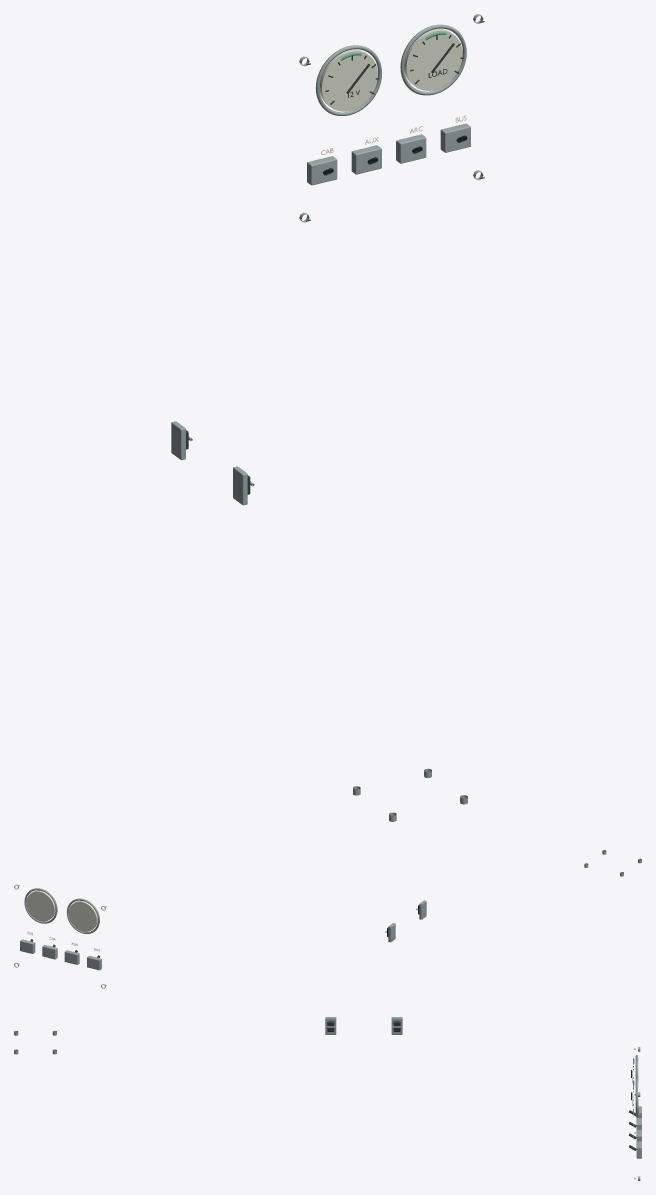
File: cabin-hardware.fbx
The picture shows the model from 3 angles, top to bottom: view 1: azimuth 30°, elevation 25°; view 2: azimuth 150°, elevation 25°; view 3: azimuth 270°, elevation 25°; orthographic projection. The views are drawn at different scales.
Visible parts, largest first — view 1: GEO-cabin_detail_hardware; view 2: GEO-cabin_detail_hardware; view 3: GEO-cabin_detail_hardware.
Boxes of the visible parts, <box> form: GEO-cabin_detail_hardware: <box>171,14,484,821</box>; GEO-cabin_detail_hardware: <box>14,850,641,988</box>; GEO-cabin_detail_hardware: <box>14,1017,641,1180</box>.
Size of the model in its own units: 1.51 by 0.472 by 2.28.
